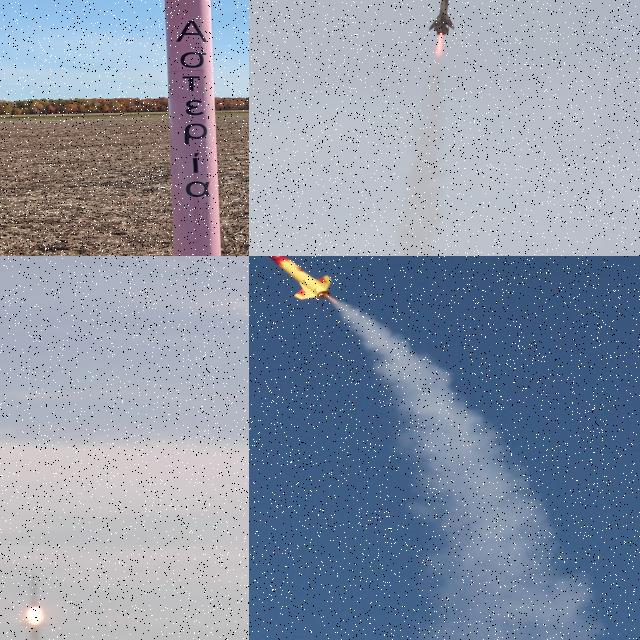Rocket: (165, 0, 222, 256), (249, 256, 333, 302), (428, 0, 454, 35), (30, 575, 40, 608)
